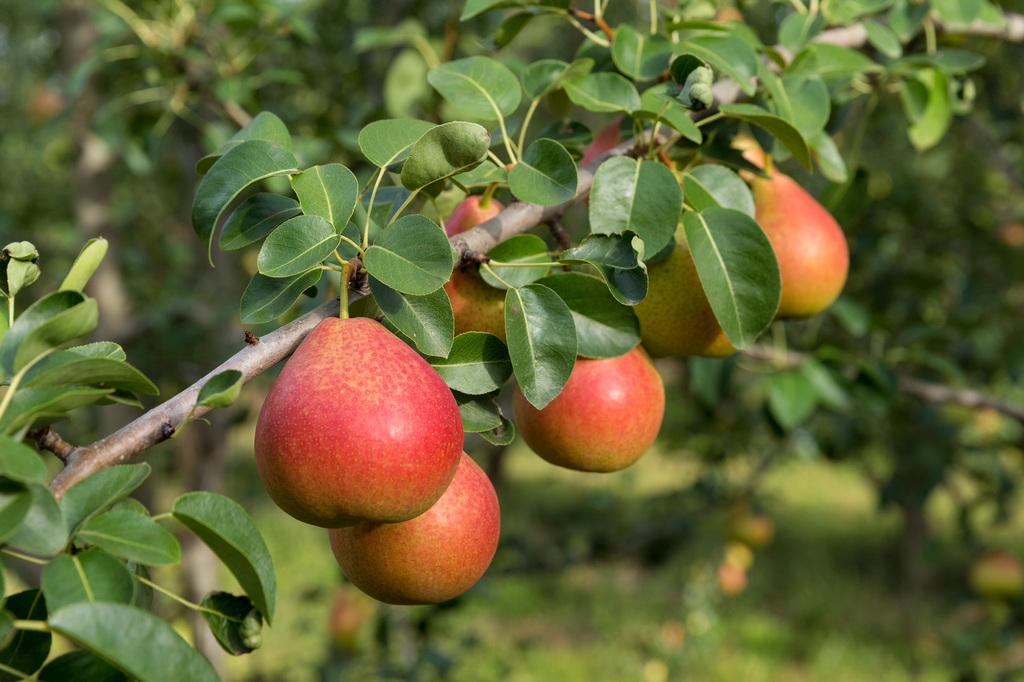Apple: (515, 347, 663, 479)
